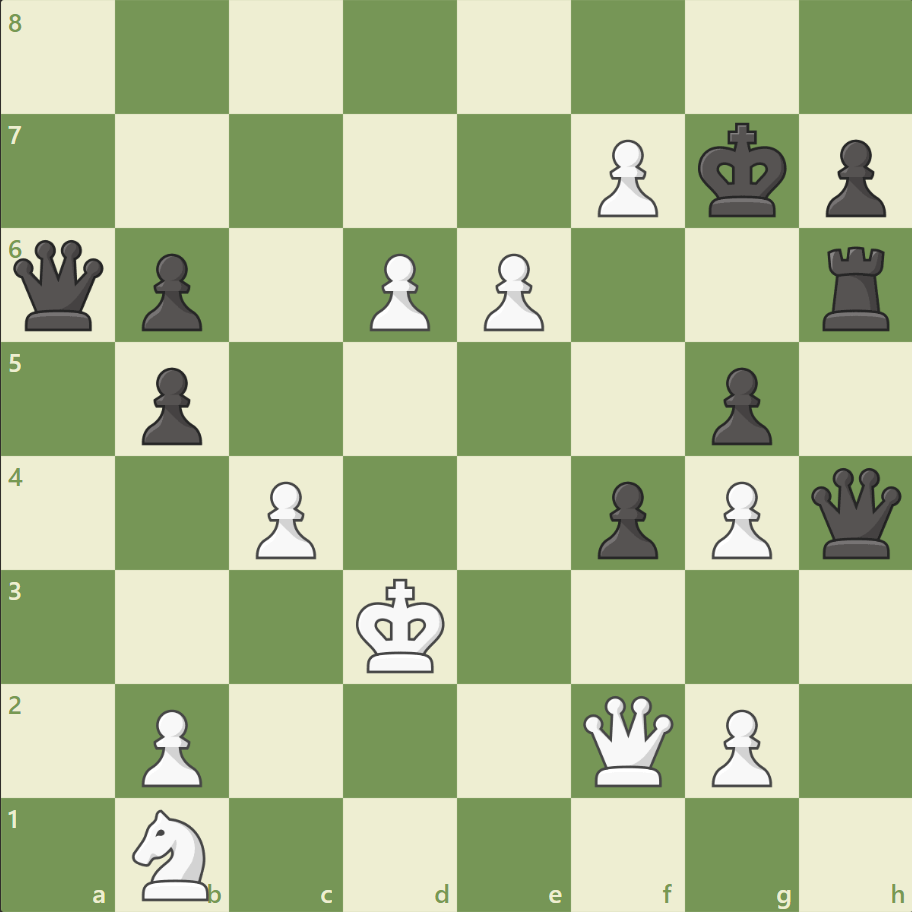K: (351, 571, 451, 679)
N: (124, 802, 222, 904)
P: (474, 246, 549, 337), (247, 473, 322, 564), (701, 473, 776, 564), (133, 700, 208, 791), (701, 700, 776, 791), (588, 132, 662, 223), (361, 246, 435, 337)
Q: (578, 690, 677, 789)
k: (692, 117, 792, 225)
p: (133, 246, 208, 337), (133, 359, 208, 450), (701, 359, 776, 450), (815, 132, 889, 223), (588, 473, 662, 564)
q: (10, 236, 109, 335), (805, 463, 904, 562)
r: (814, 239, 897, 336)
